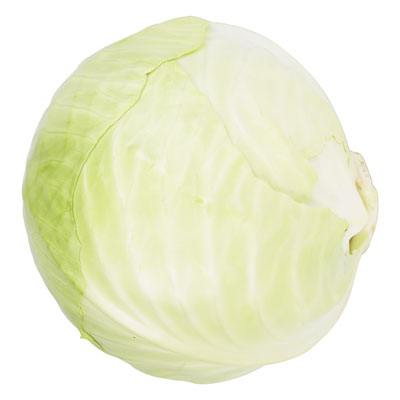cabbage: (21, 15, 380, 386)
